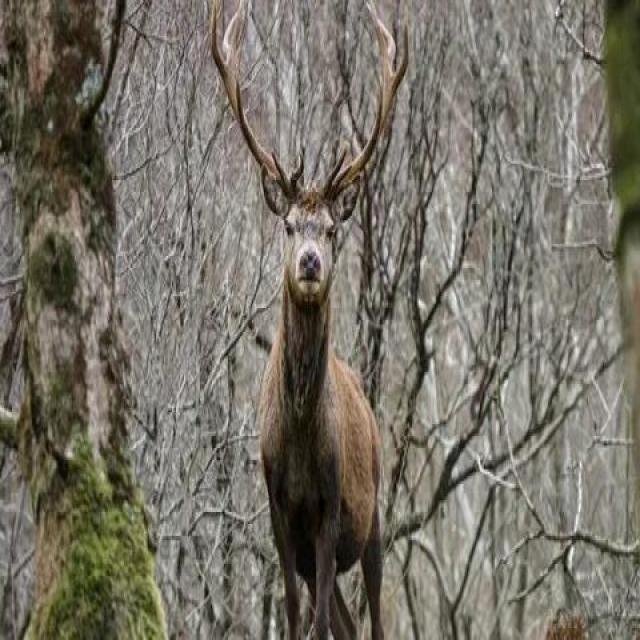deer: (180, 0, 458, 629)
